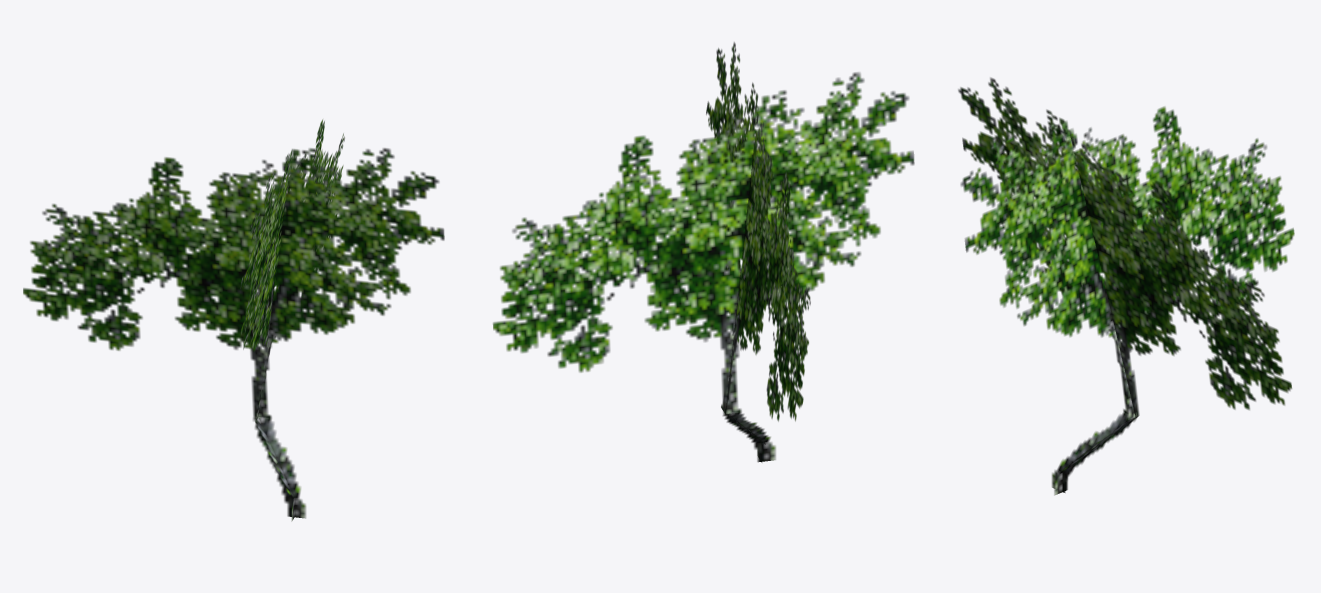
File: tree084.glb
The picture shows the model from 3 angles, left to right: view 1: azimuth 30°, elevation 25°; view 2: azimuth 150°, elevation 25°; view 3: azimuth 270°, elevation 25°; orthographic projection.
Visible parts, largest first — view 1: tree084; view 2: tree084; view 3: tree084.
Boxes of the visible parts, x1,y1,x2,y2 form: tree084: (23,119,444,521); tree084: (493,42,914,462); tree084: (958,77,1294,495).
Size of the model in its own units: 3.14 by 3.35 by 2.68.
1 material, 1 textured.
